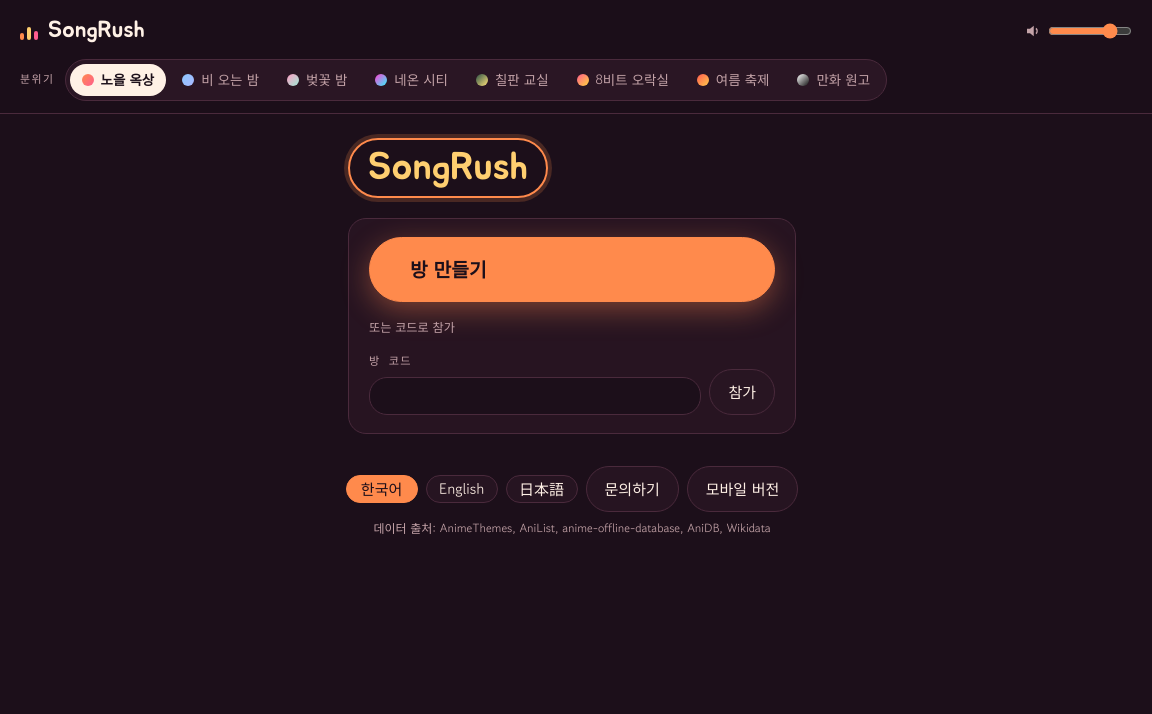
Test: the disc › the disc canvas is 520 x 520
This screenshot has width=1152, height=714.
Type "ABCDE" into the field labelled "방 코드" at (535, 396), box [369,377,701,415]
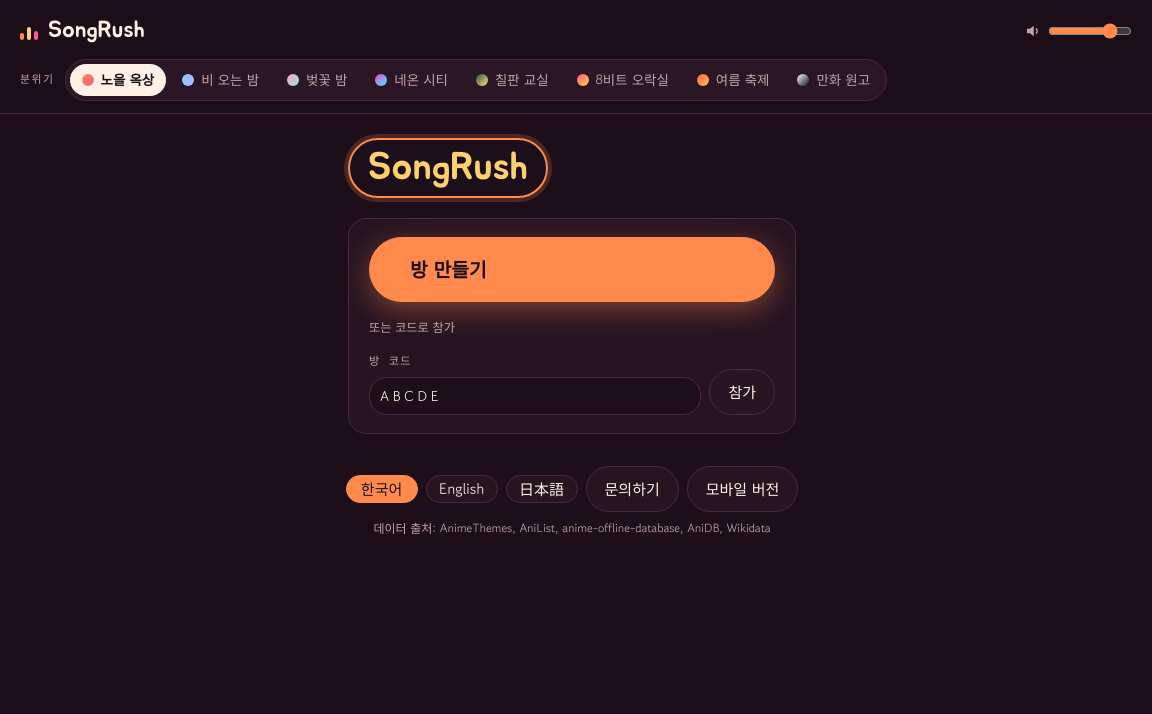
Click the button "참가" at (742, 392), box [709,369,775,415]
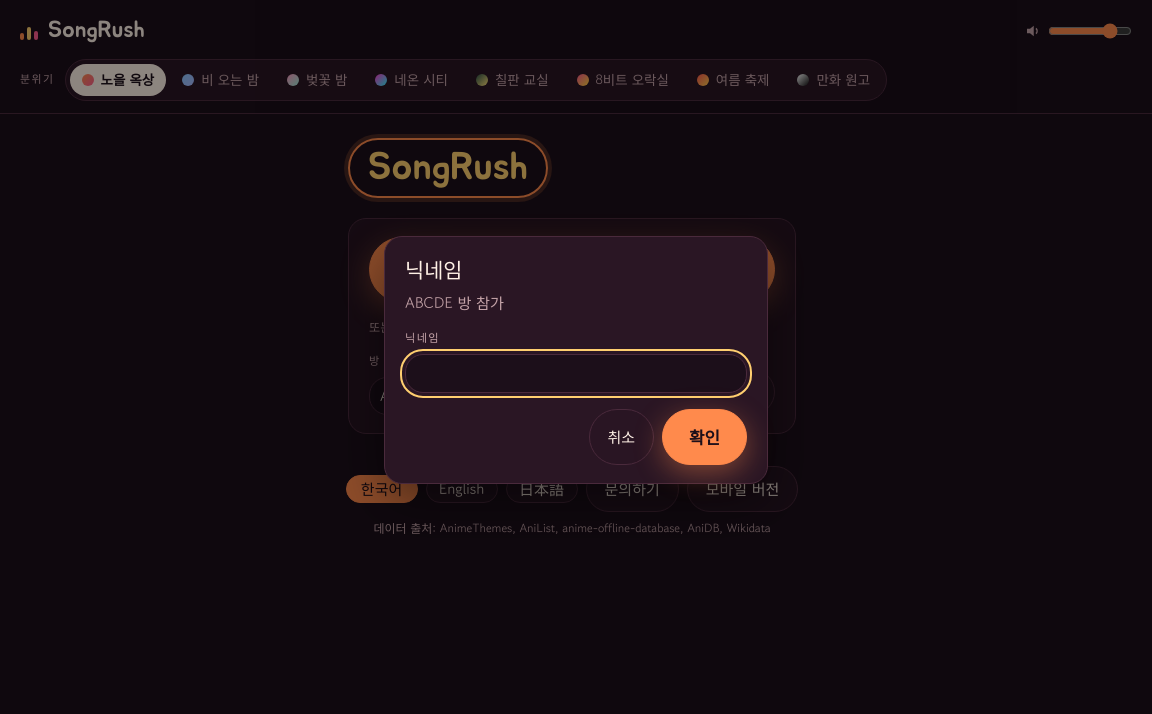
Type "Hana" into the field at (576, 373), box [405,354,747,392]
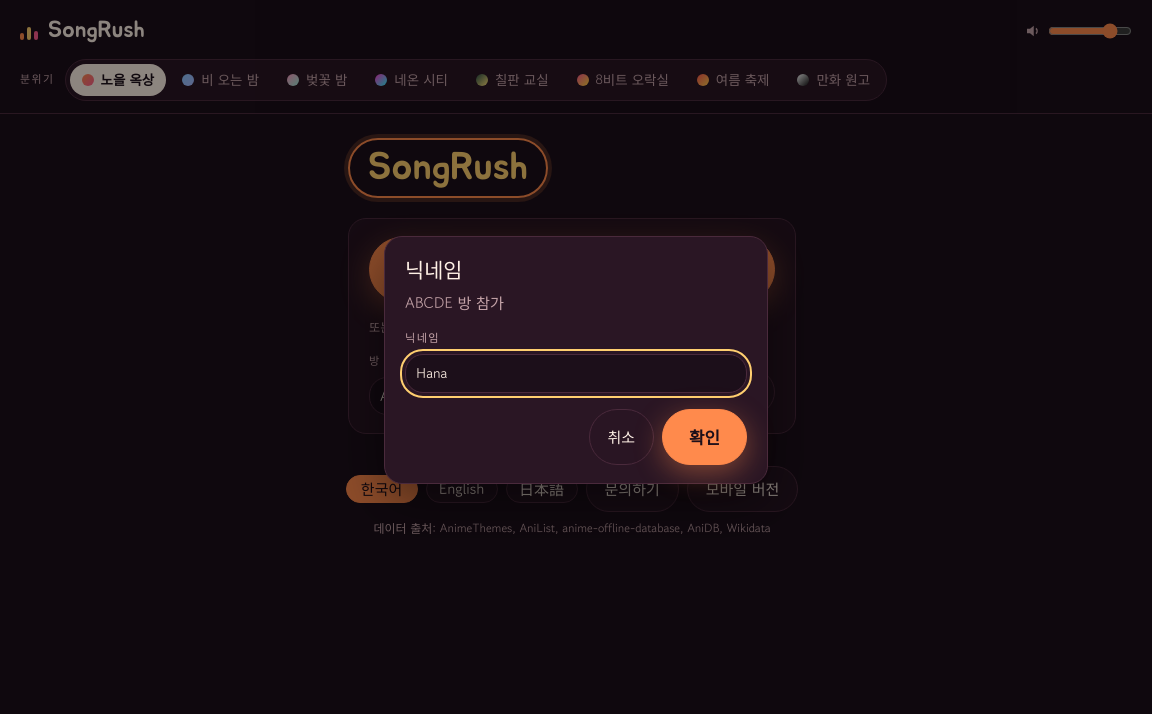
Click the button "확인" at (705, 437), box [662,409,747,466]
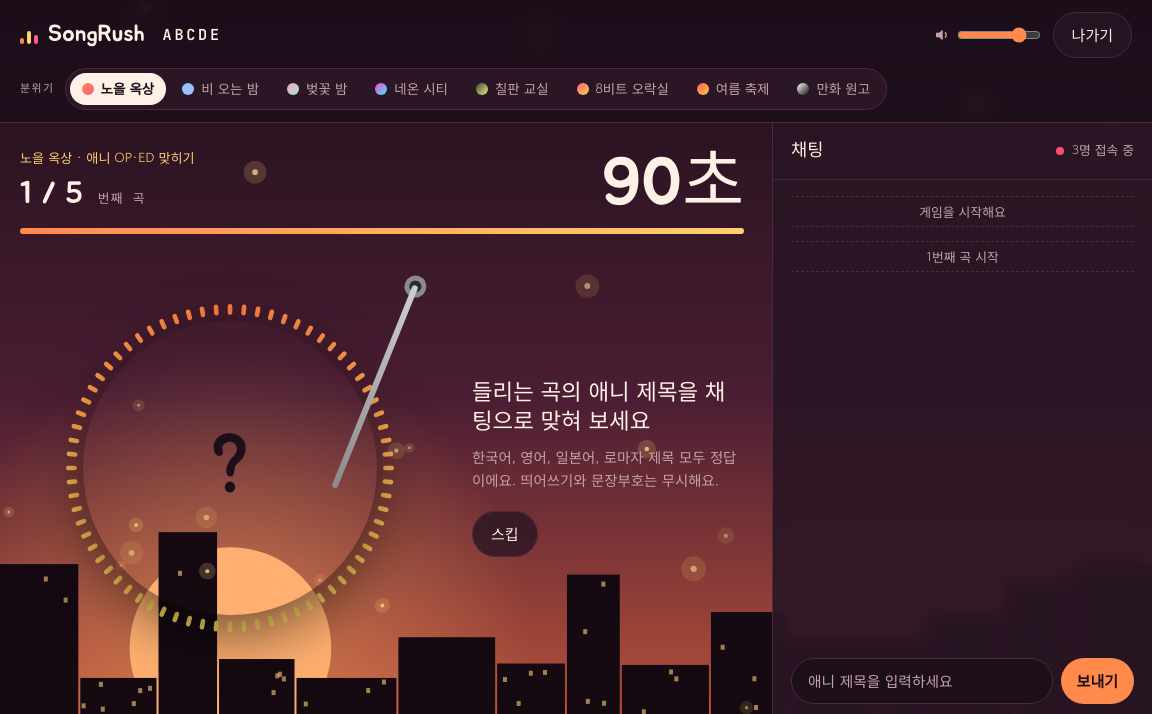
Expected: the 3rd drawing is shown, [83,321,377,615]
